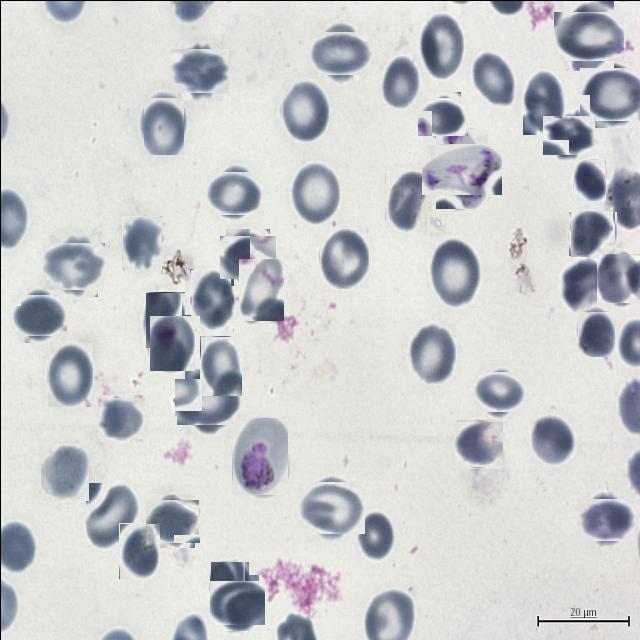red blood cell: (428, 235, 480, 307), (300, 477, 360, 537), (558, 5, 618, 65), (582, 63, 640, 123), (85, 482, 137, 548), (290, 160, 340, 225), (419, 11, 465, 81), (318, 225, 368, 288), (180, 373, 236, 429), (279, 78, 328, 141), (407, 321, 455, 384), (46, 341, 92, 406), (46, 238, 100, 292), (238, 258, 283, 320), (40, 443, 88, 500), (522, 69, 564, 134), (314, 26, 366, 78), (561, 256, 610, 311), (190, 268, 233, 330), (173, 44, 224, 96), (384, 168, 426, 231), (469, 48, 514, 106), (148, 314, 194, 370), (210, 167, 260, 218), (199, 335, 241, 395), (580, 494, 630, 544), (222, 231, 272, 281), (211, 578, 261, 628), (148, 496, 196, 545), (530, 413, 574, 466), (15, 290, 63, 338), (118, 522, 159, 578), (143, 97, 183, 154), (144, 292, 184, 348), (454, 420, 501, 467), (121, 215, 161, 269), (596, 254, 639, 304), (476, 368, 522, 414), (569, 210, 615, 256), (545, 111, 591, 157), (381, 55, 420, 109), (98, 395, 144, 440), (355, 508, 394, 561), (209, 560, 248, 612), (419, 94, 464, 138), (576, 308, 614, 356), (573, 159, 605, 200)
trophozoite: (231, 416, 287, 494), (428, 136, 494, 202)
